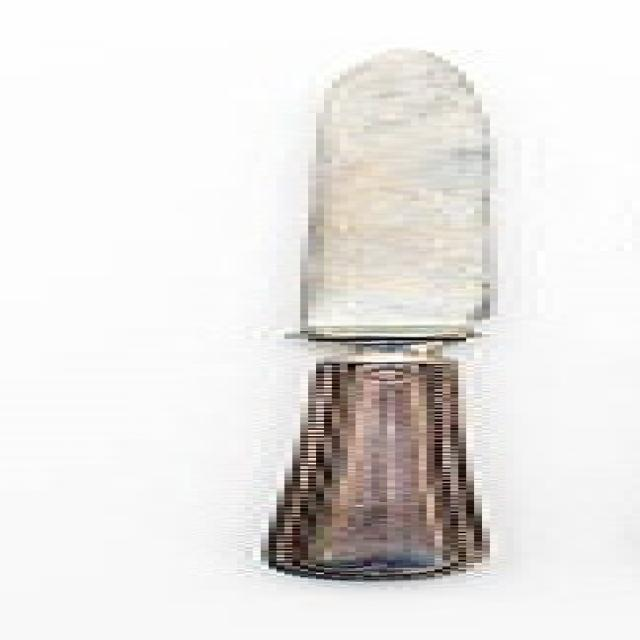knife: (294, 48, 517, 580)
